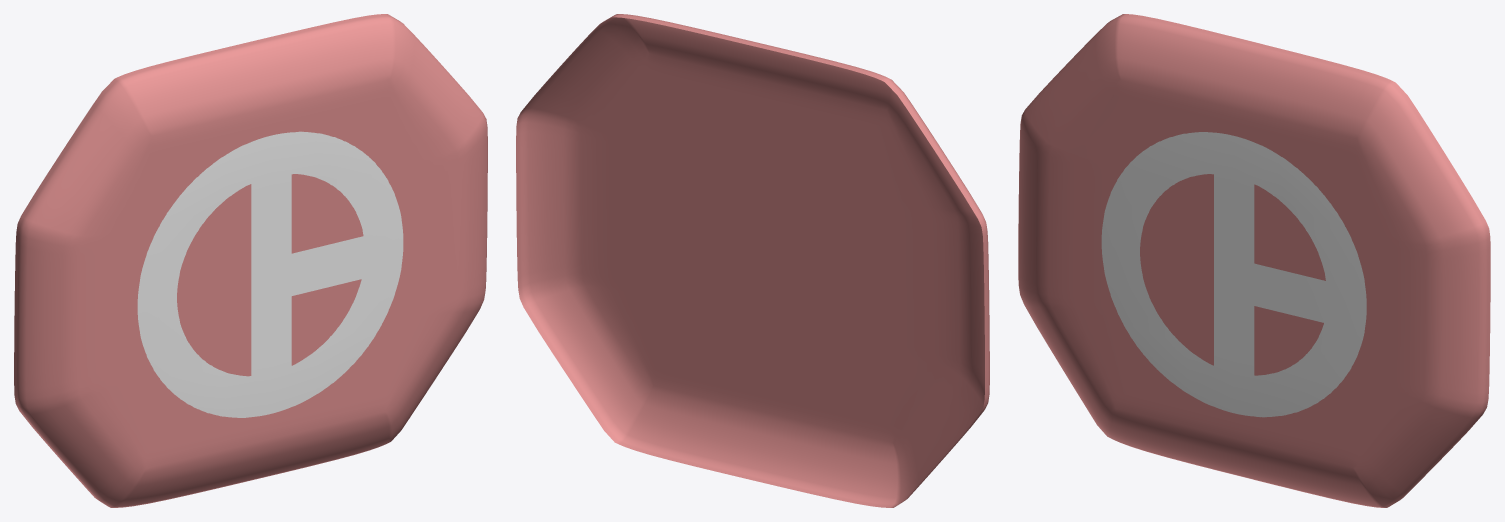
The model's file is ButtcapPro (1).fbx.
3 views of the same model, side by side, from view 1: azimuth 30°, elevation 25°; view 2: azimuth 150°, elevation 25°; view 3: azimuth 330°, elevation 25° (orthographic).
Parts seen in each view (by area): view 1: ButtcapPro; view 2: ButtcapPro; view 3: ButtcapPro.
Part boxes in pixels (bbox=[...]): ButtcapPro: bbox=[14, 14, 487, 507]; ButtcapPro: bbox=[516, 14, 989, 507]; ButtcapPro: bbox=[1018, 14, 1490, 507].
Bounding box in the file's own units: 57.7 × 51.11 × 4.86.
